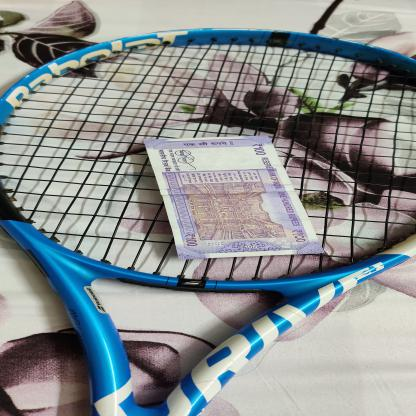New100Back: (142, 134, 329, 260)
